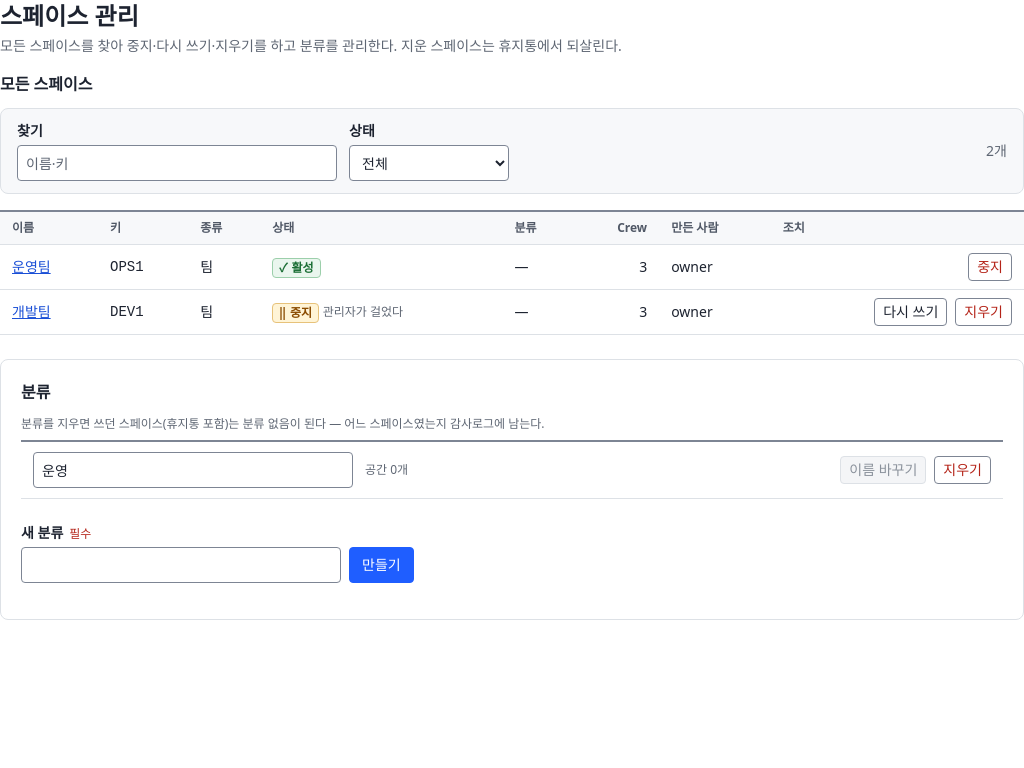
Scenario: AdminSpacesPage — 모든 스페이스 › **줄의 조치는 access대로** — 활성은 중지(묻는다), 중지된 것은 다시 쓰기·지우기(묻는다)
The image size is (1024, 768).
Expected: the link "운영팀" is shown, [12,257,51,276]
Click the button "중지" at (990, 267), box [968,253,1012,281]
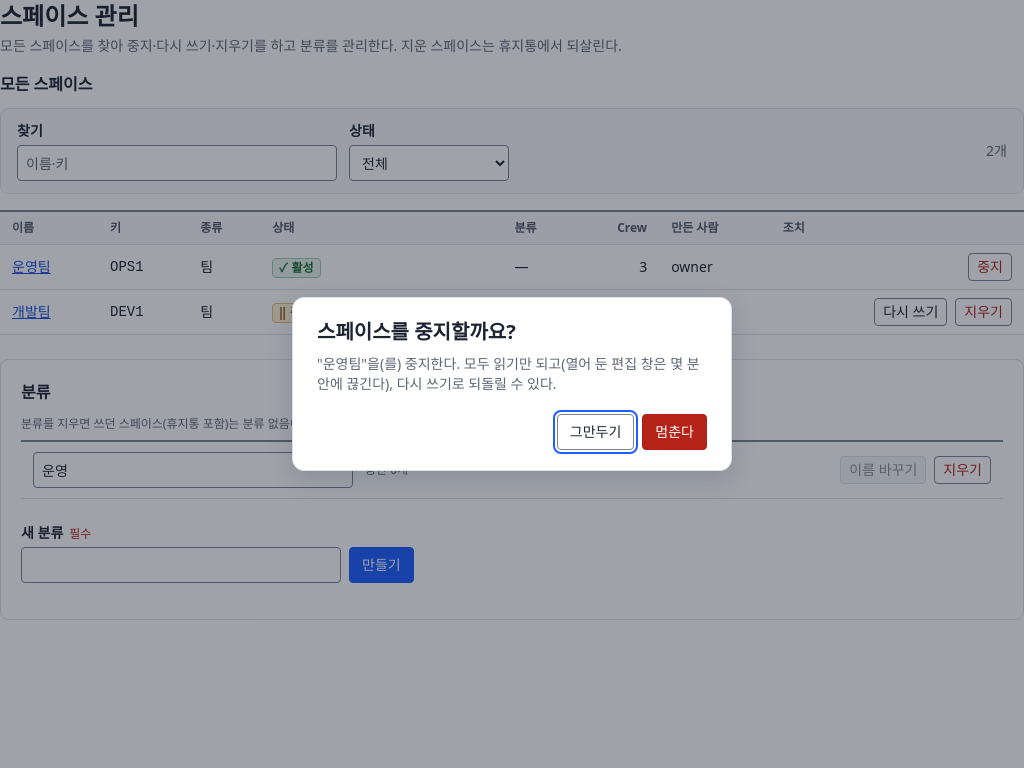
Click the button "멈춘다" at (675, 432), box [642,414,707,450]
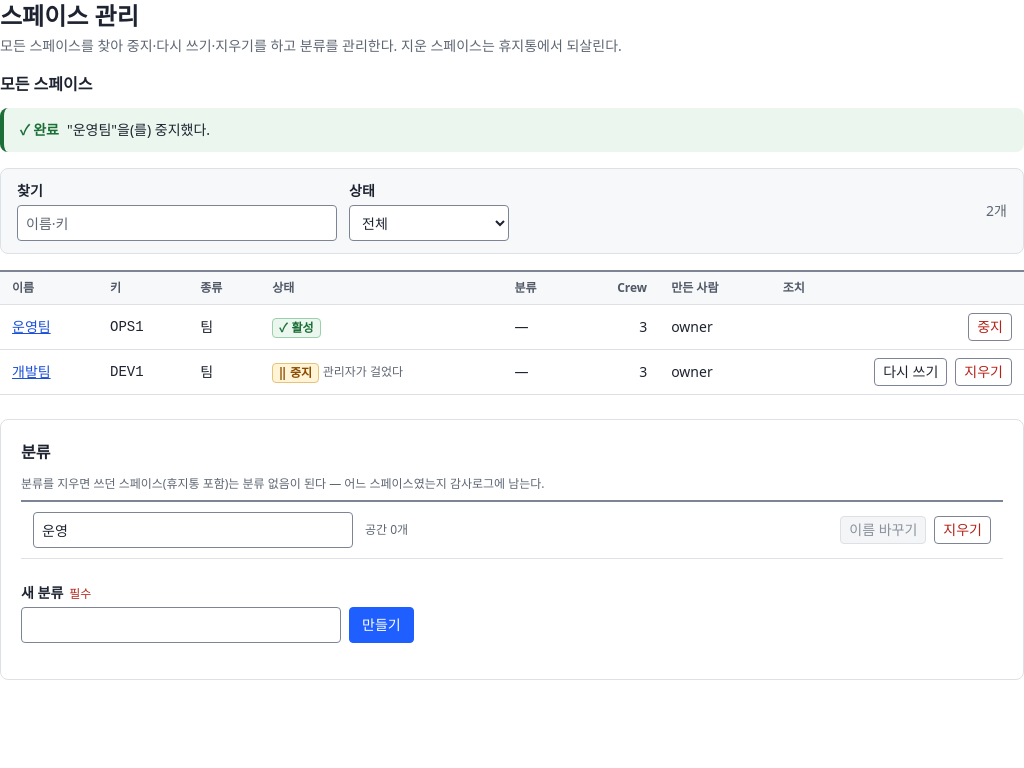
Now the dialog is gone
Click the button "다시 쓰기" at (911, 372), box [874,358,947,386]
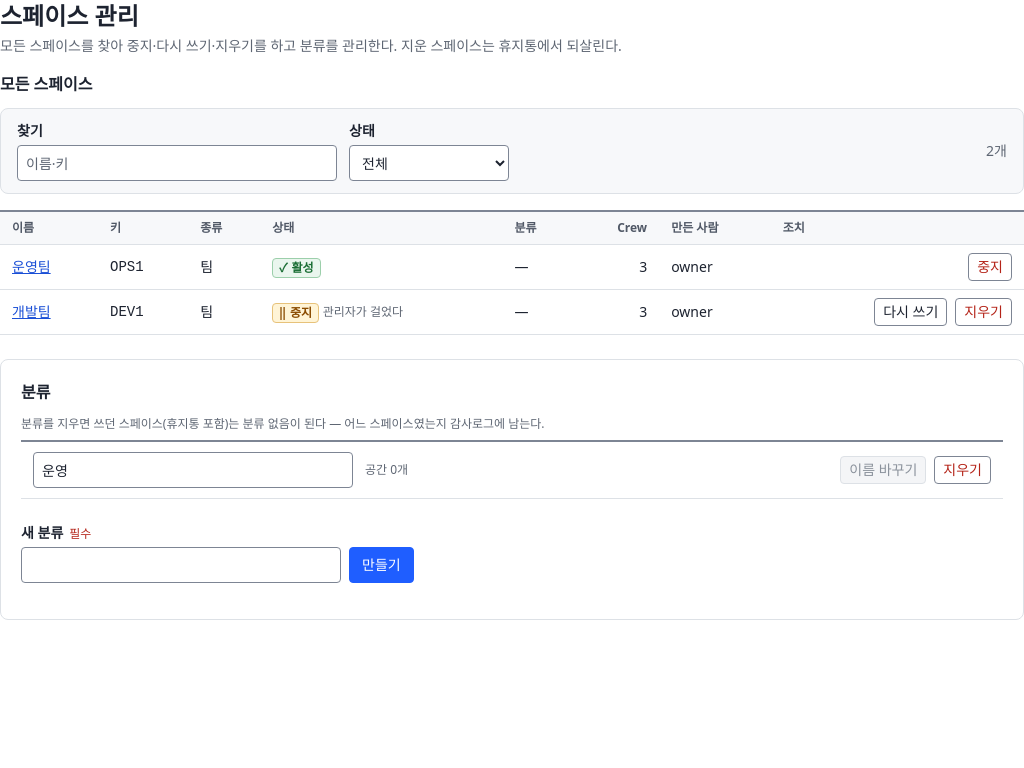
Click the button "지우기" in the row of "개발팀" at (984, 312), box [955,298,1012,326]
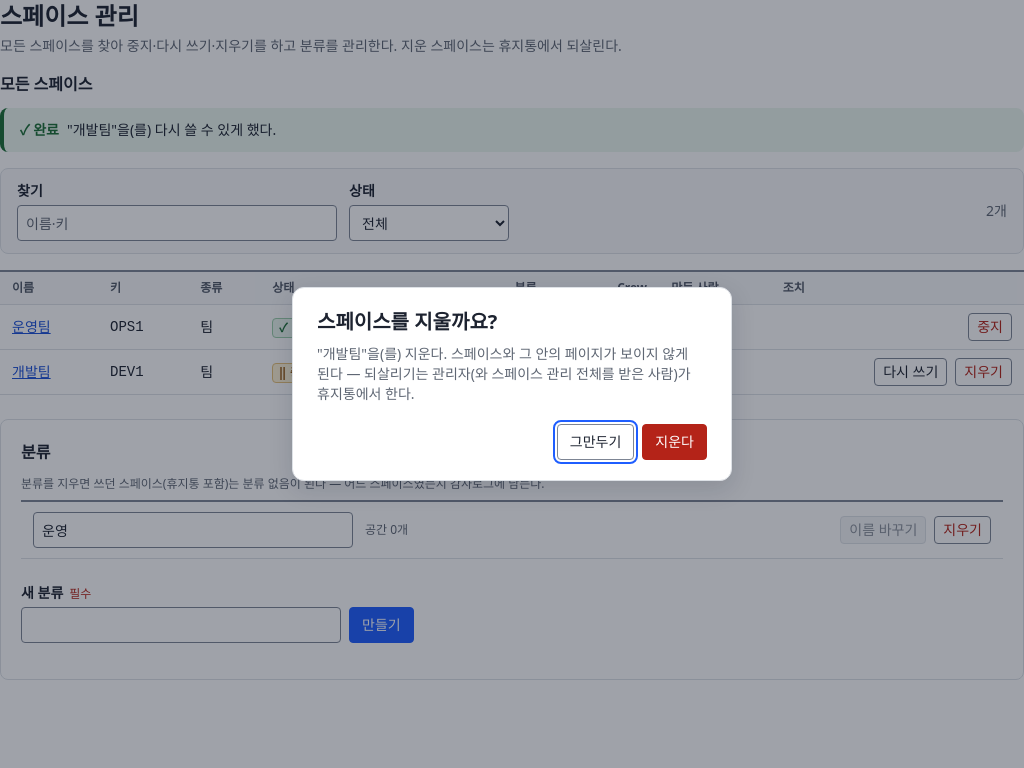
Click the button "지운다" at (675, 442), box [642,424,707,460]
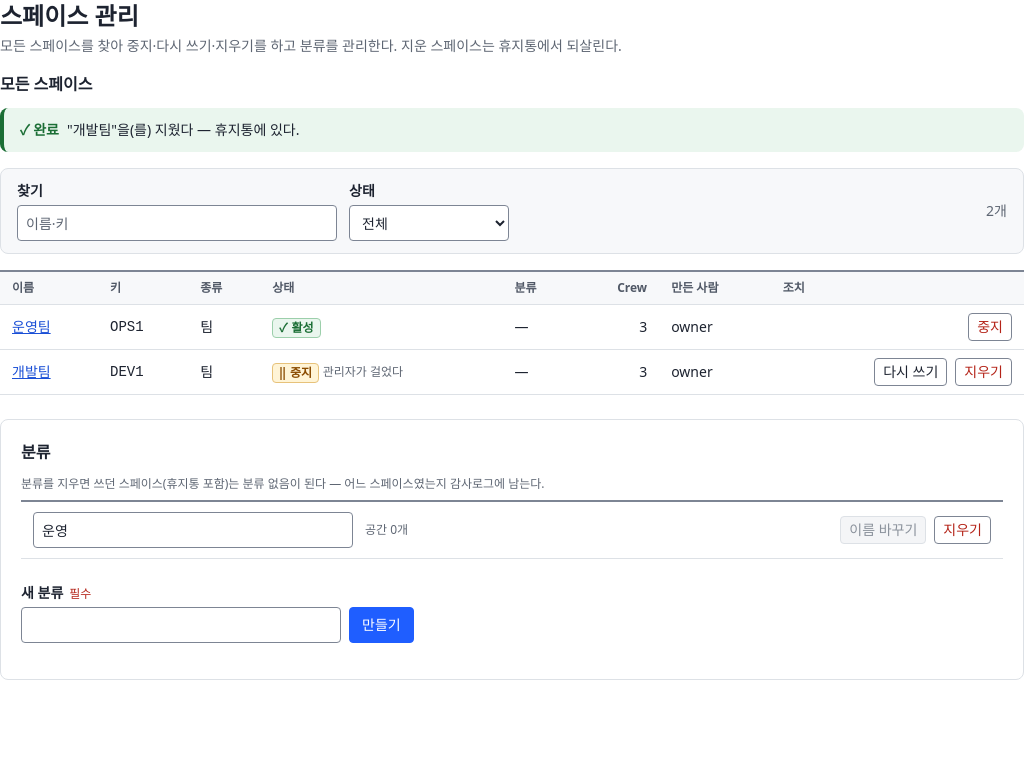
Now the dialog is gone
Now the message reads "\"개발팀\"을(를) 지웠다 — 휴지통에 있다.", box [67,120,300,139]
